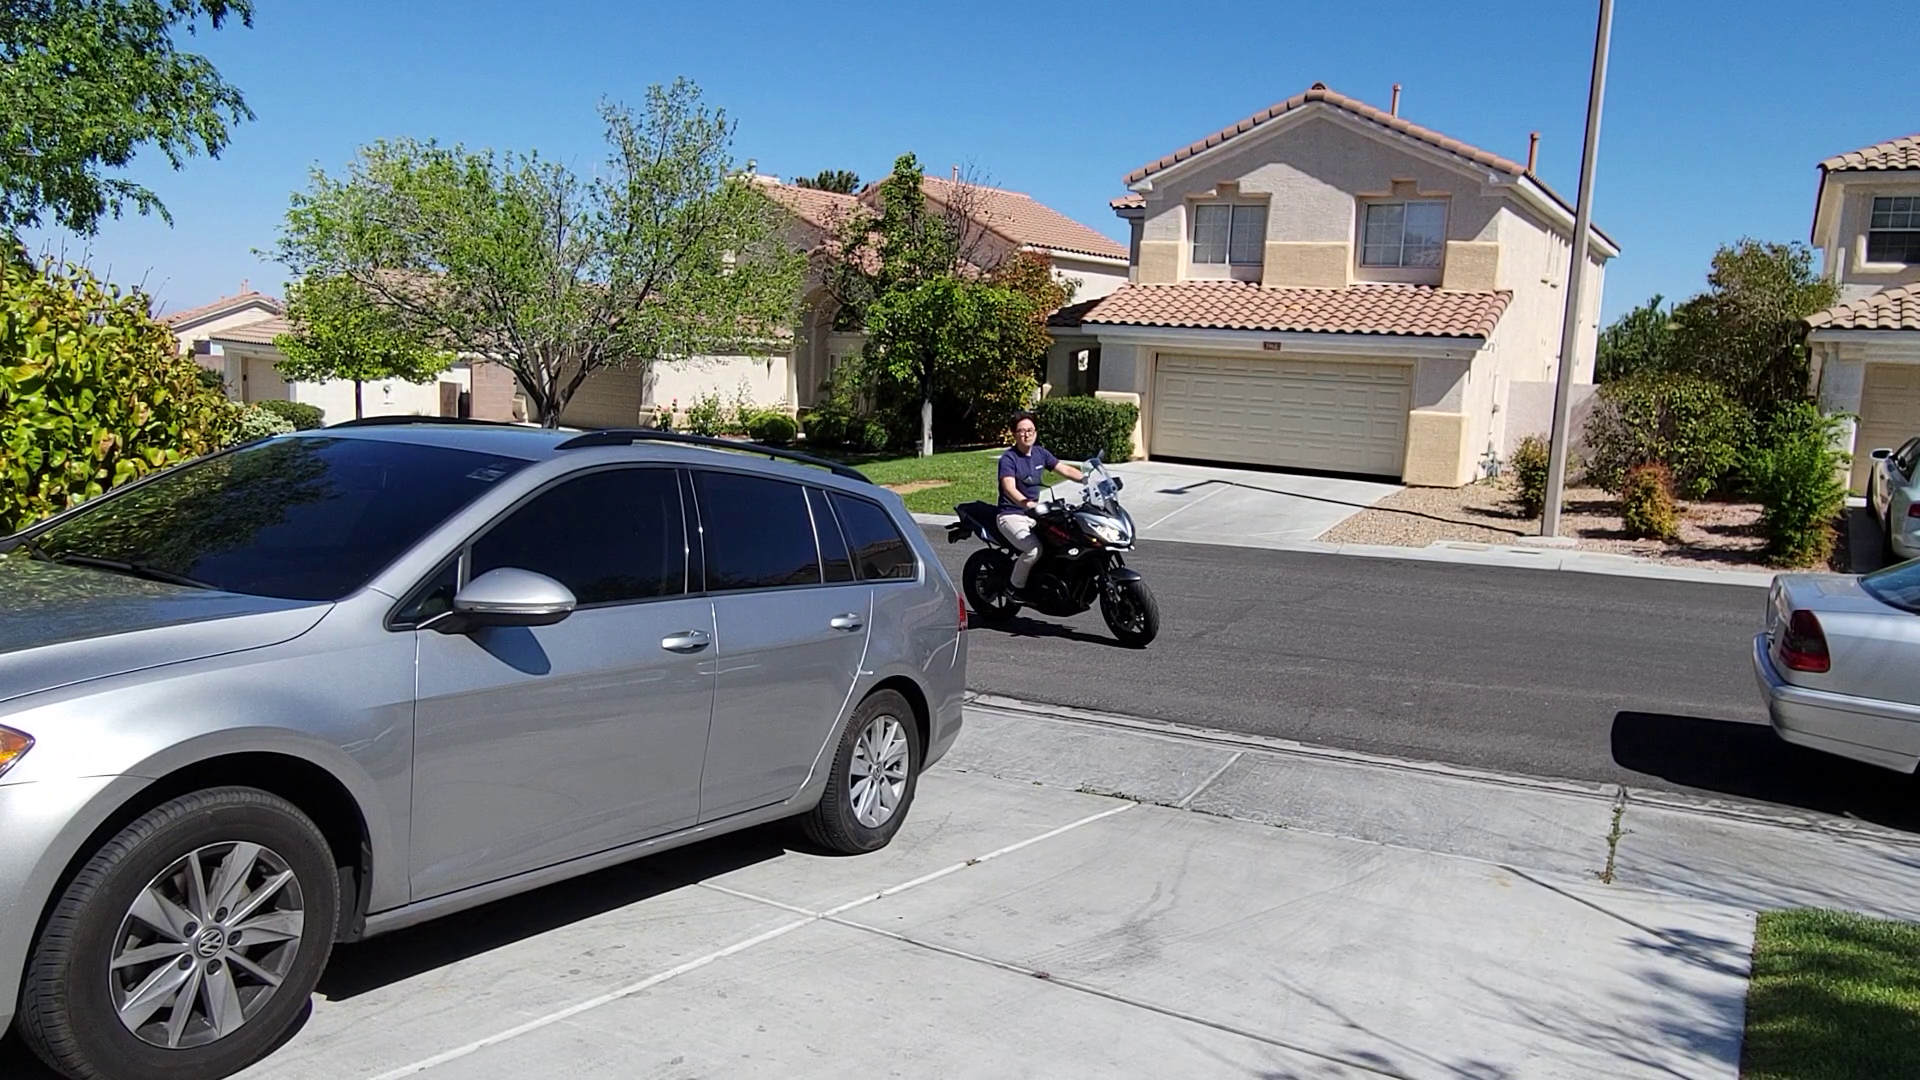my bike: (939, 405, 1163, 650)
